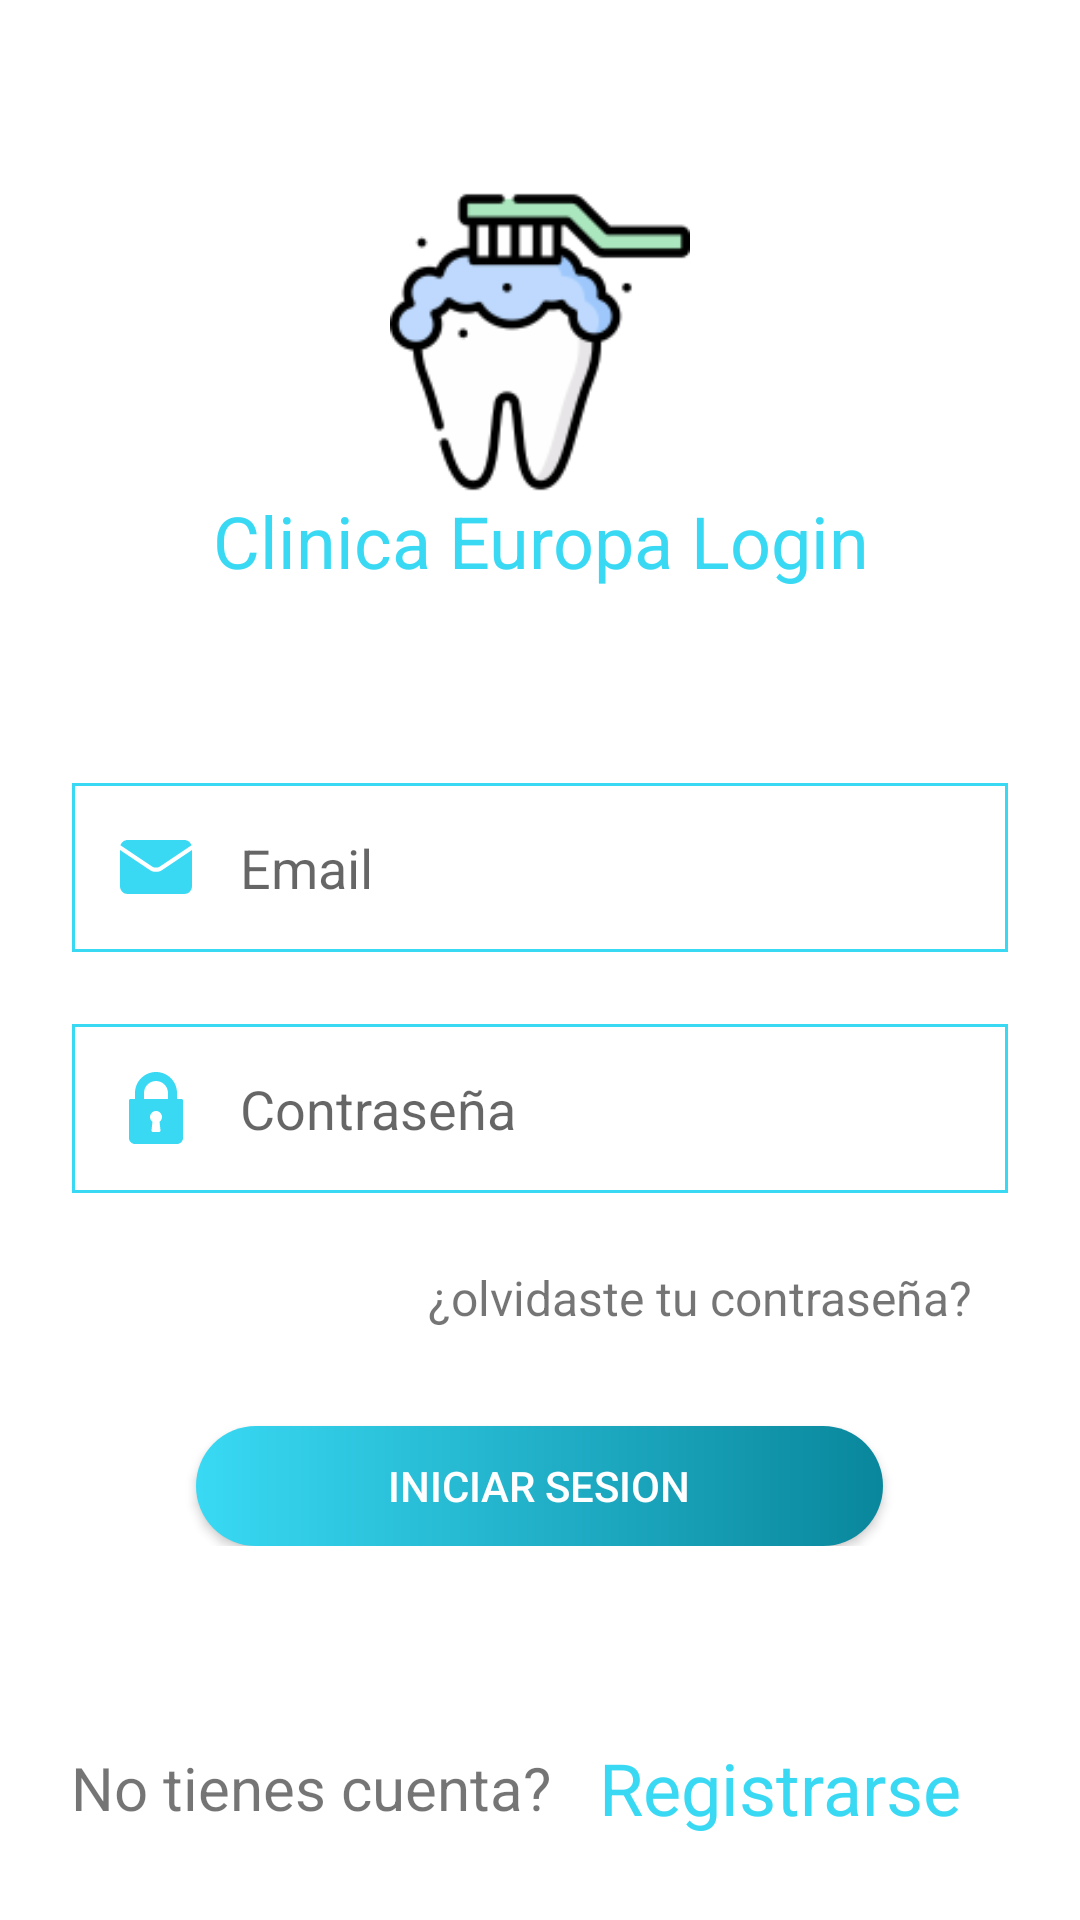

Locate icon controls on the screen. Image size 1080px x 1920px, boxes as (left=x1, top=y1, right=x2, bottom=y2).
dientes: (left=390, top=193, right=690, bottom=491)
